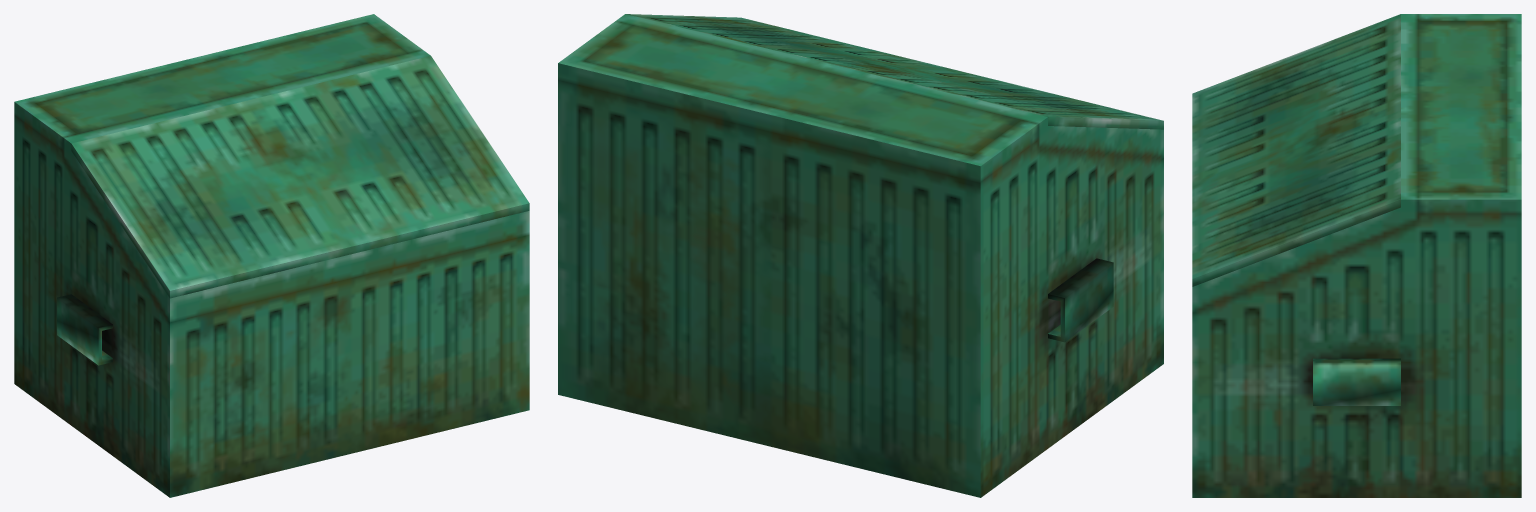
The model's file is Dumpster2.glb.
3 renders of one model, left to right at view 1: azimuth 30°, elevation 25°; view 2: azimuth 150°, elevation 25°; view 3: azimuth 270°, elevation 25°, orthographic. The views are drawn at different scales.
Visible parts, largest first — view 1: DUMPSTER2; view 2: DUMPSTER2; view 3: DUMPSTER2.
Part boxes in pixels (x1,y1,x2,y2): DUMPSTER2: (14,14,529,497); DUMPSTER2: (558,14,1163,497); DUMPSTER2: (1192,14,1521,497).
Size of the model in its own units: 2.16 by 1.5 by 1.5.
Materials: 1 (1 with a texture image).
